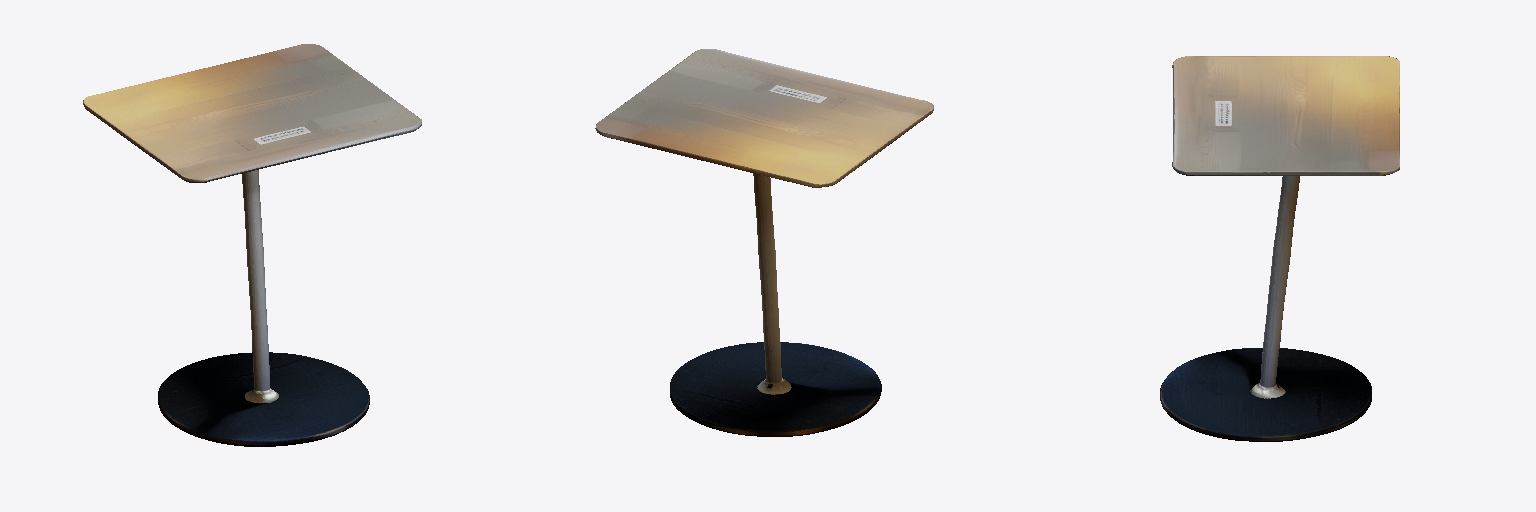
3 renders of one model, left to right at view 1: azimuth 30°, elevation 25°; view 2: azimuth 150°, elevation 25°; view 3: azimuth 270°, elevation 25°, orthographic.
Visible parts, largest first — view 1: geometry_0; view 2: geometry_0; view 3: geometry_0.
Boxes of the visible parts, x1=… form: geometry_0: x1=83, y1=44, x2=421, y2=446; geometry_0: x1=595, y1=49, x2=933, y2=436; geometry_0: x1=1160, y1=56, x2=1399, y2=441.
Size of the model in its own units: 0.876 by 1 by 0.7661.
1 materials, 1 textured.